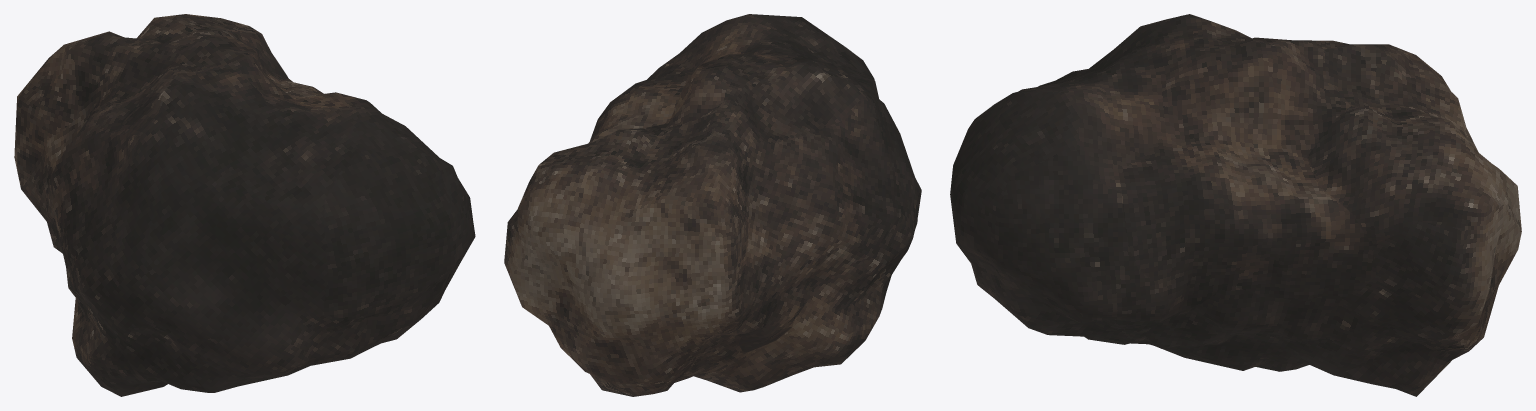
Rendered from SM_RP2_Rock_4m_2.001.glb.
3 renders of one model, left to right at view 1: azimuth 30°, elevation 25°; view 2: azimuth 150°, elevation 25°; view 3: azimuth 270°, elevation 25°, orthographic. The views are drawn at different scales.
Parts seen in each view (by area): view 1: SM_RP2_Rock_4m_2.001; view 2: SM_RP2_Rock_4m_2.001; view 3: SM_RP2_Rock_4m_2.001.
Boxes of the visible parts, x1,y1,x2,y2 form: SM_RP2_Rock_4m_2.001: (14,14,475,396); SM_RP2_Rock_4m_2.001: (504,14,921,396); SM_RP2_Rock_4m_2.001: (950,14,1521,396).
Bounding box in the file's own units: 5.32 × 4.96 × 7.47.
1 material, 1 textured.
